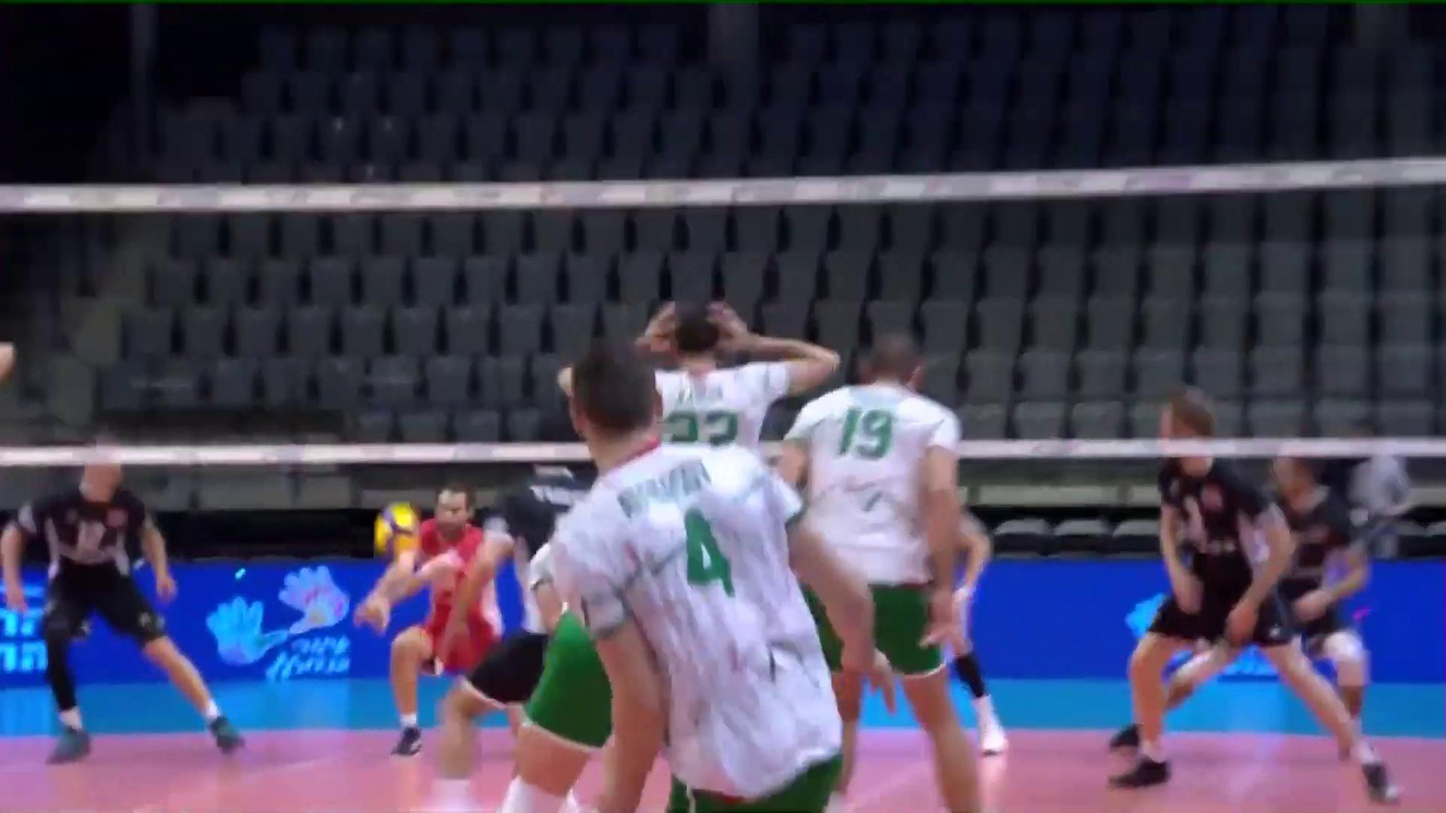ball: (375, 503, 422, 560)
